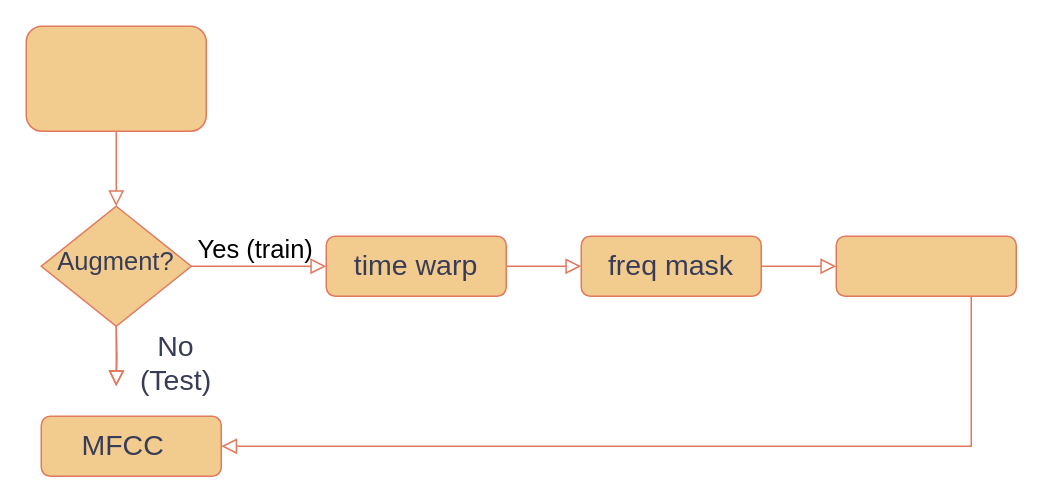
This 1043x503 diagram has some shape labels left out. Here are the shapes that lost their labels. From the top down, the centre of each, then its label:
At (115,78): "Compute Mel Spectrogram with log scale".
At (925,265): "time mask".
